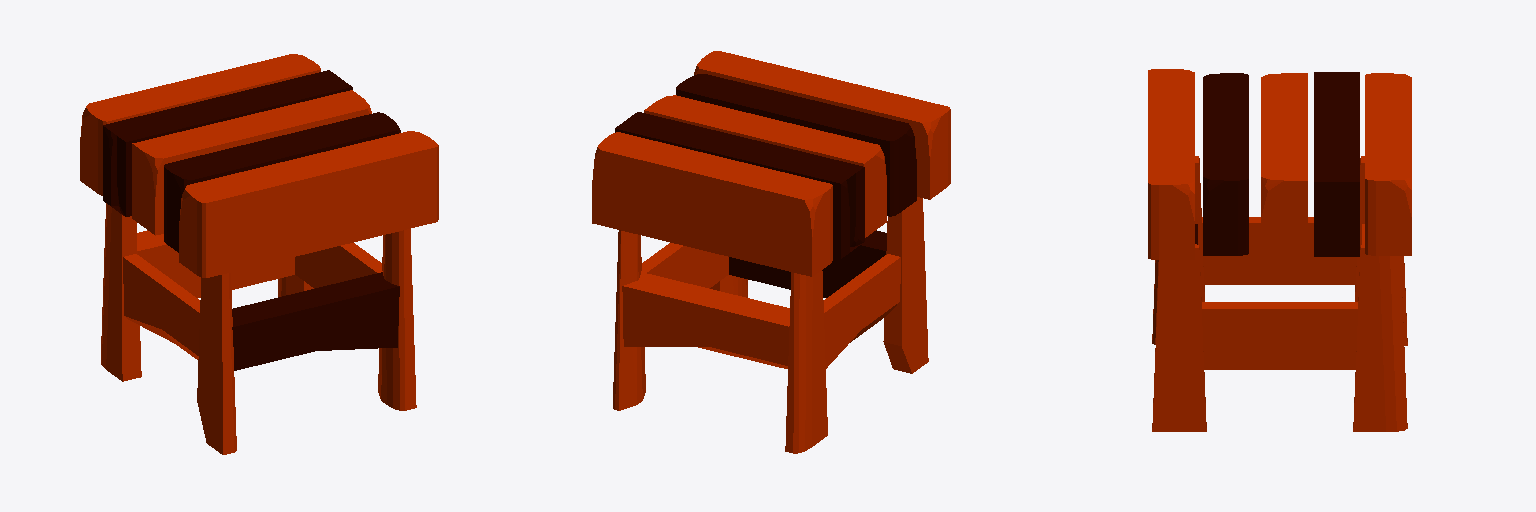
The model's file is chair.obj.
3 views of the same model, side by side, from view 1: azimuth 30°, elevation 25°; view 2: azimuth 150°, elevation 25°; view 3: azimuth 270°, elevation 25° (orthographic).
Visible parts, largest first — view 1: chair.002; view 2: chair.002; view 3: chair.002.
Part boxes in pixels (left/top/right/bottom): chair.002: left=80, top=54, right=438, bottom=454; chair.002: left=592, top=51, right=950, bottom=453; chair.002: left=1148, top=69, right=1411, bottom=431.
Bounding box in the file's own units: 0.8163 × 0.8435 × 0.7794.